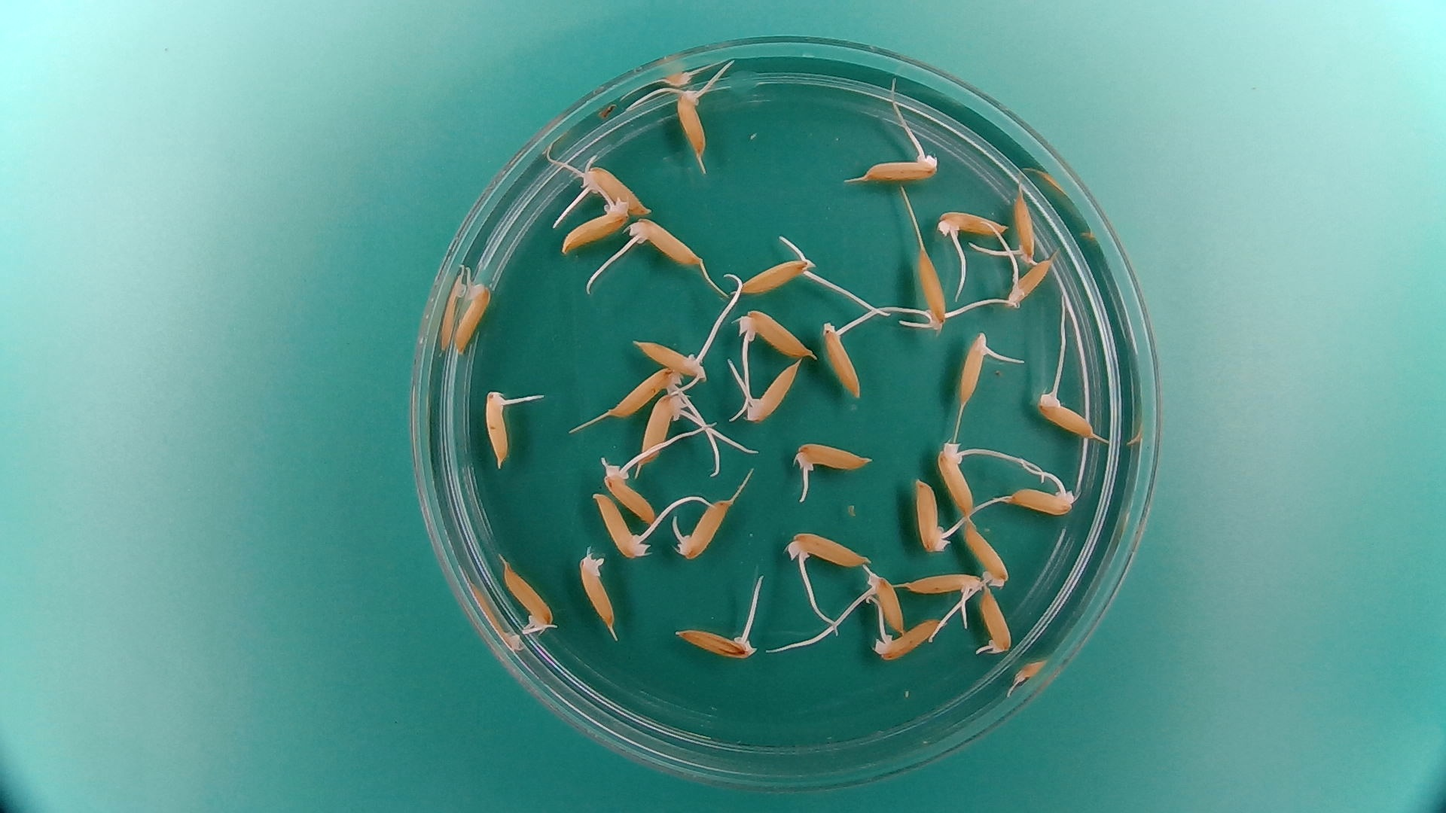yes: (573, 157, 654, 217), (732, 304, 816, 361), (590, 490, 654, 559), (740, 358, 803, 425), (599, 455, 660, 522), (609, 367, 684, 421), (673, 495, 735, 559), (561, 201, 633, 254), (627, 215, 703, 265), (575, 549, 619, 635), (870, 614, 947, 663), (449, 275, 494, 358), (639, 387, 688, 461), (500, 564, 551, 634), (936, 436, 979, 519), (911, 475, 956, 554), (962, 519, 1013, 588), (630, 338, 709, 382), (821, 318, 862, 402), (786, 531, 871, 570), (736, 255, 813, 297), (861, 568, 908, 635), (901, 569, 984, 606), (974, 587, 1014, 661), (1035, 392, 1093, 442), (1006, 477, 1078, 516), (671, 629, 760, 660), (790, 441, 871, 475), (1005, 255, 1056, 305), (676, 82, 709, 159), (958, 330, 991, 406), (1008, 192, 1042, 264), (918, 246, 947, 329), (482, 387, 509, 467), (938, 207, 1008, 236), (865, 157, 936, 181)
